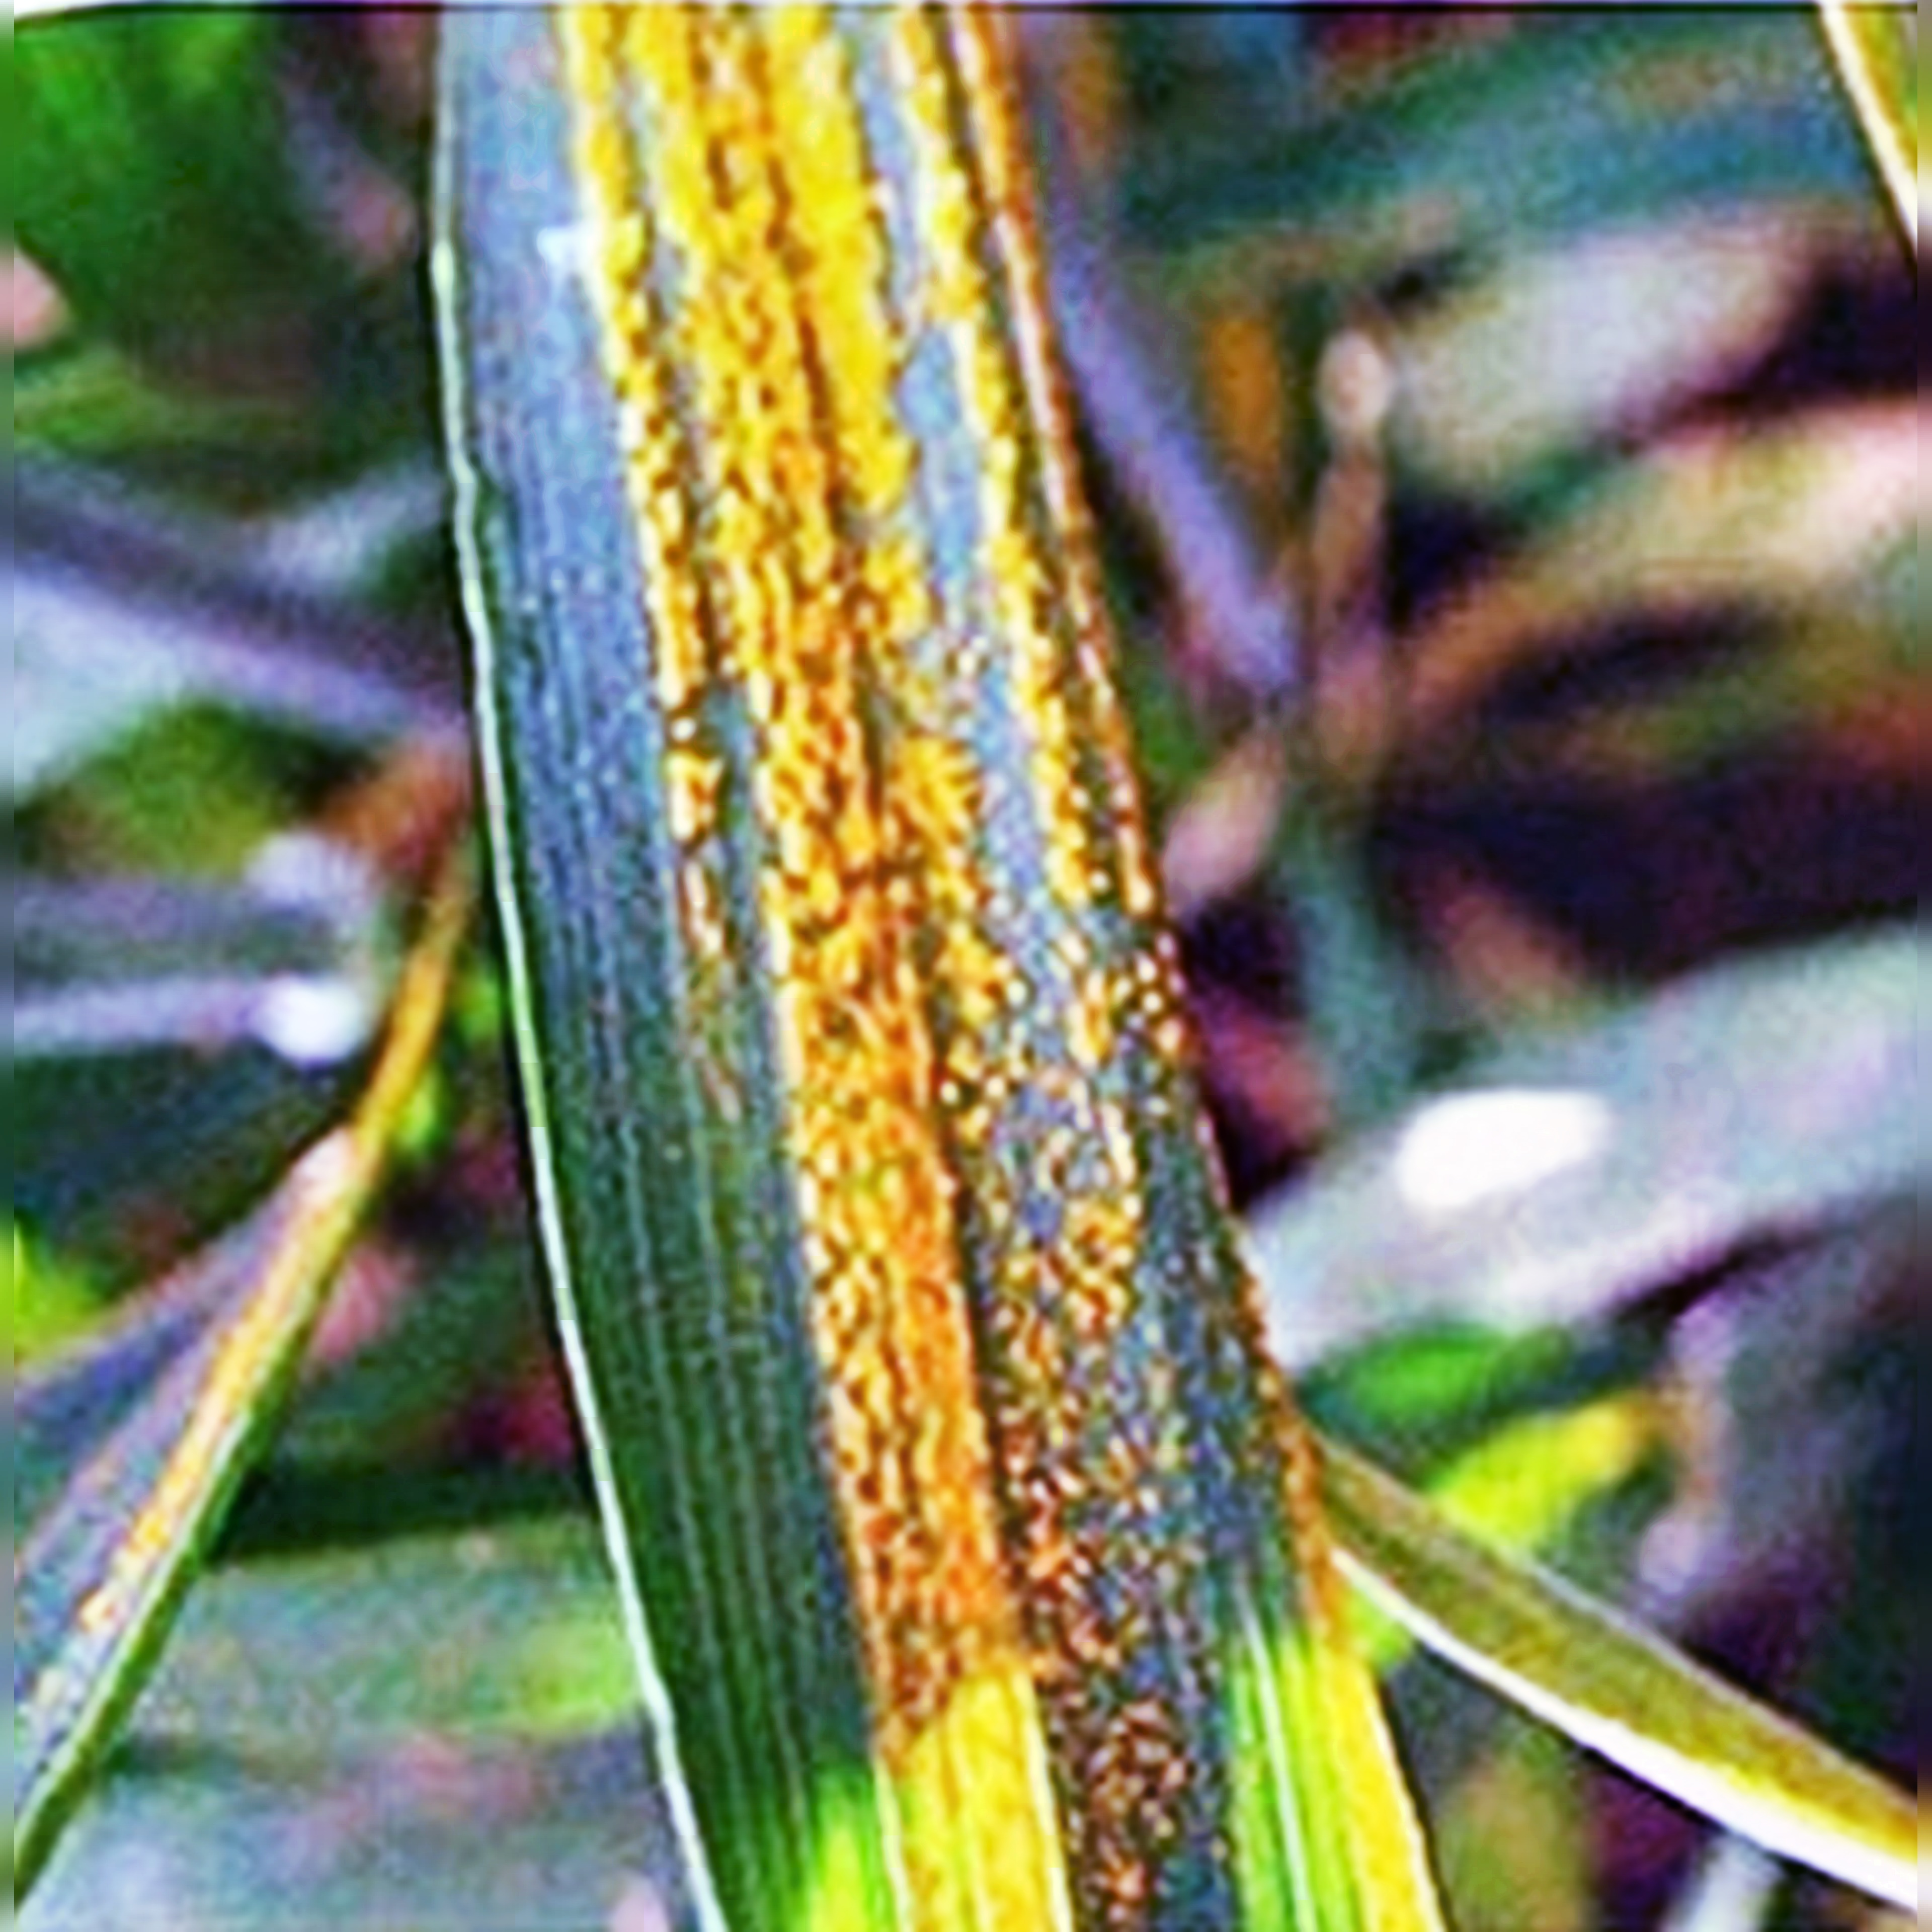Leaf Rust: (492, 115, 1361, 1737)
